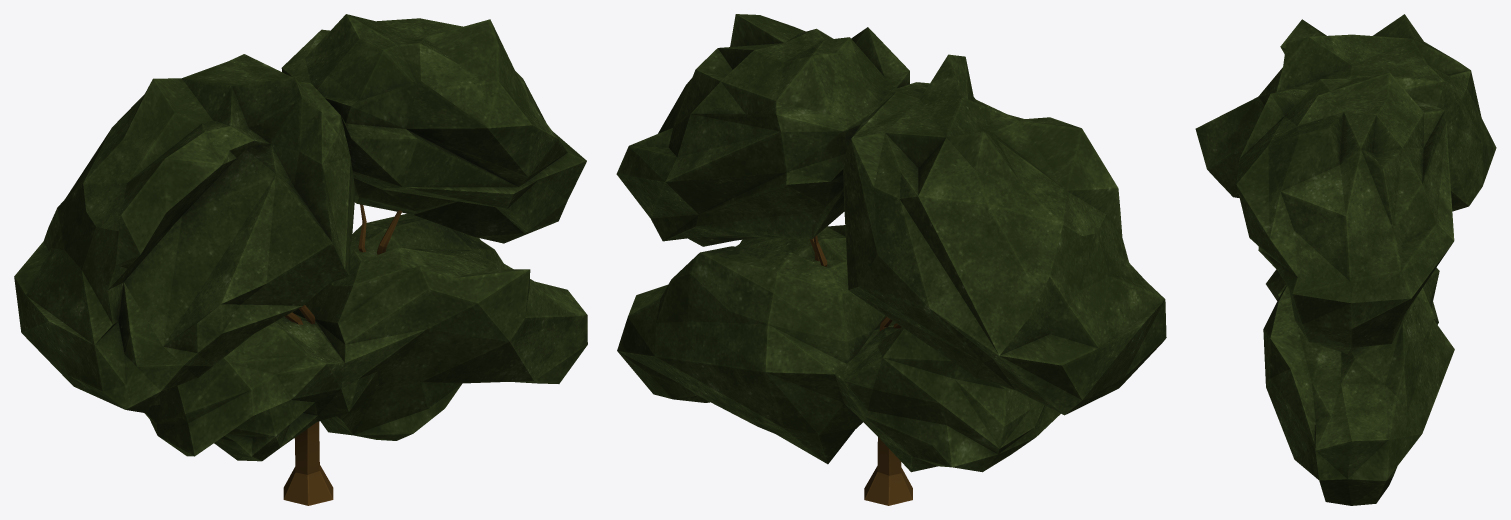
Rendered from AshTree.gltf.
3 views of the same model, side by side, from view 1: azimuth 30°, elevation 25°; view 2: azimuth 150°, elevation 25°; view 3: azimuth 270°, elevation 25° (orthographic). The views are drawn at different scales.
Visible parts, largest first — view 1: node-0; view 2: node-0; view 3: node-0.
Boxes of the visible parts, box(x1,y1,x2,y2) form: node-0: box(14, 14, 587, 505); node-0: box(616, 14, 1166, 505); node-0: box(1195, 14, 1496, 505).
Size of the model in its own units: 16.81 by 13.89 by 9.29.
1 material, 1 textured.
